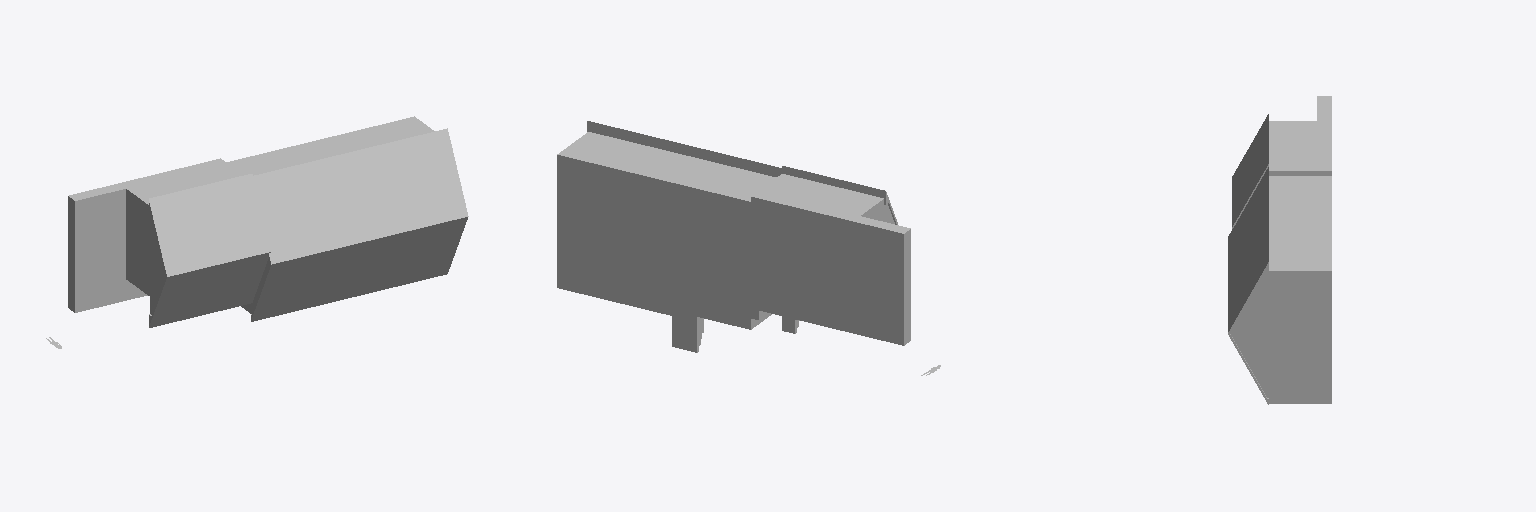
The model's file is putney facade.obj.
3 views of the same model, side by side, from view 1: azimuth 30°, elevation 25°; view 2: azimuth 150°, elevation 25°; view 3: azimuth 270°, elevation 25° (orthographic).
Parts seen in each view (by area): view 1: obj_[number redacted]; view 2: obj_[number redacted]; view 3: obj_[number redacted].
Boxes of the visible parts, <box> form: obj_[number redacted]: <box>46,116,468,348</box>; obj_[number redacted]: <box>557,121,940,375</box>; obj_[number redacted]: <box>1228,96,1331,404</box>.
Bounding box in the file's own units: 877 × 399 × 213.